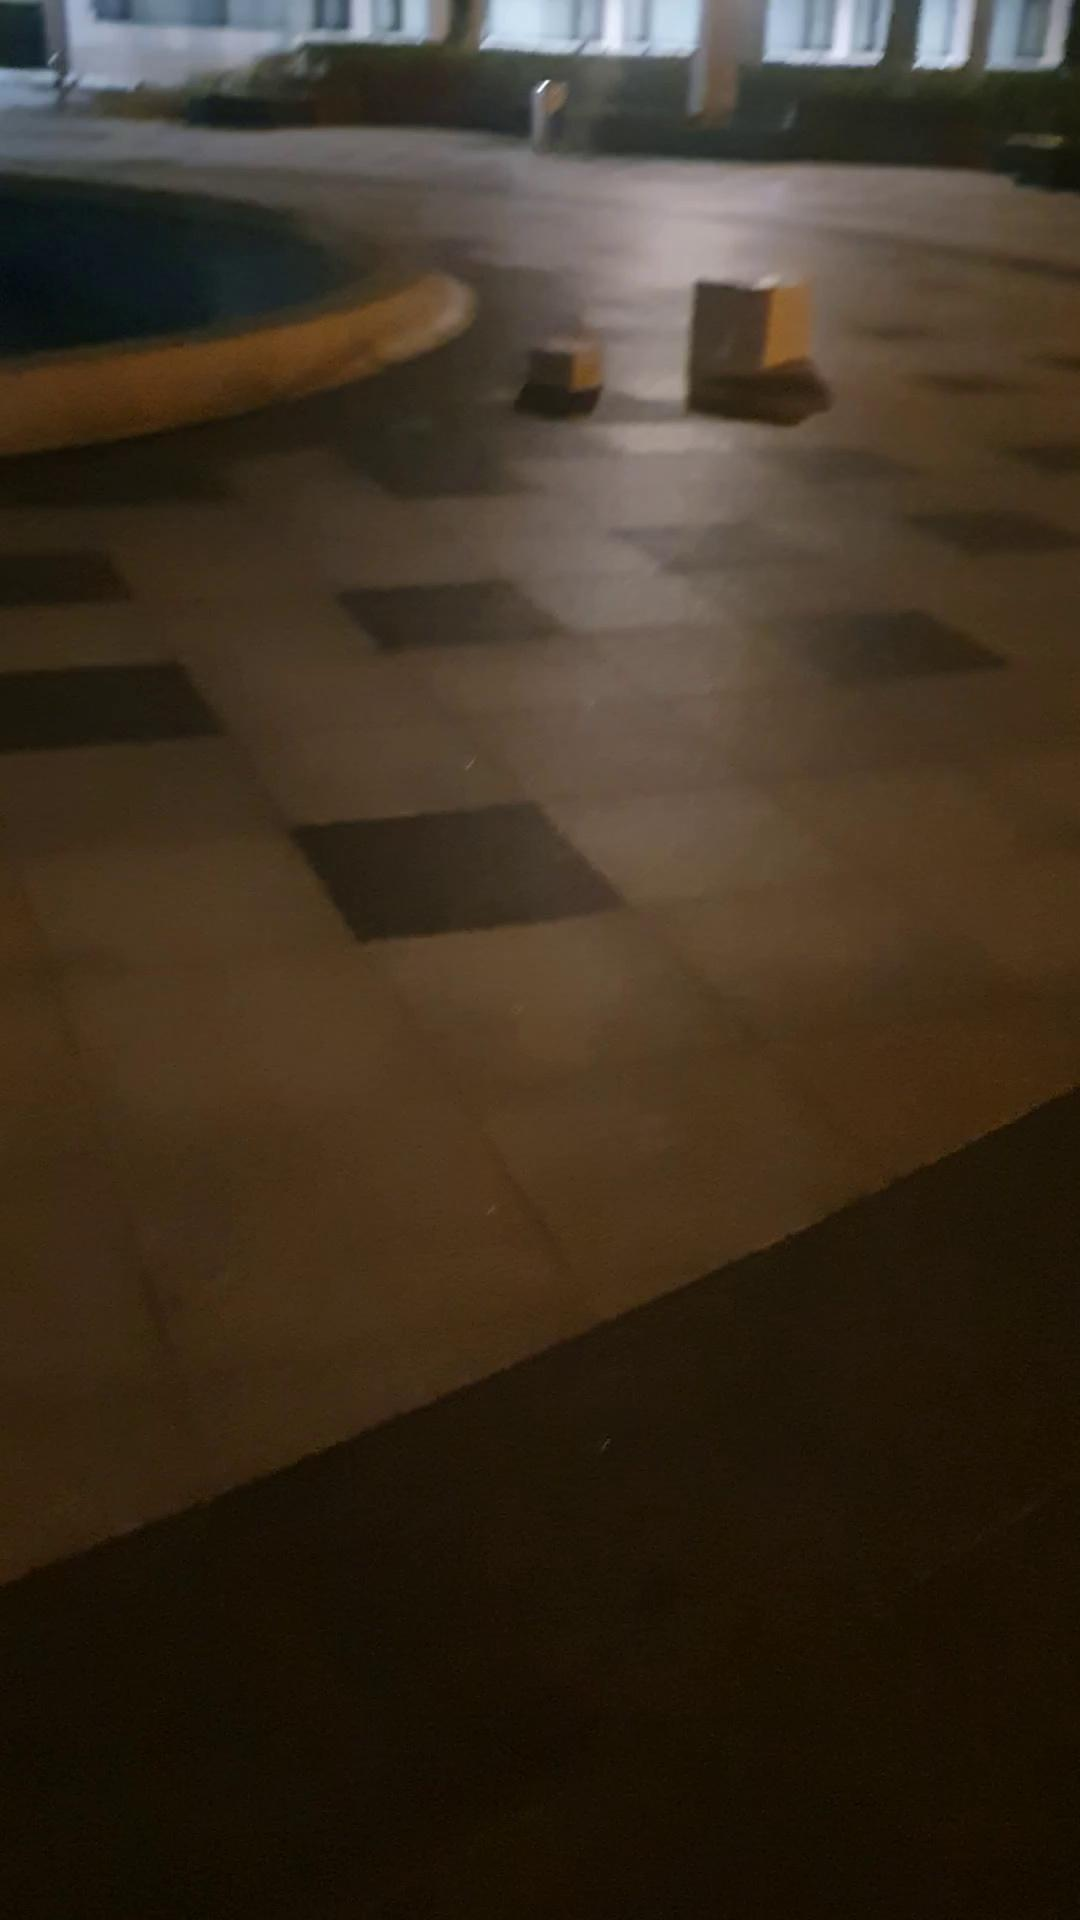Box: (686, 262, 818, 396), (526, 328, 622, 400)
